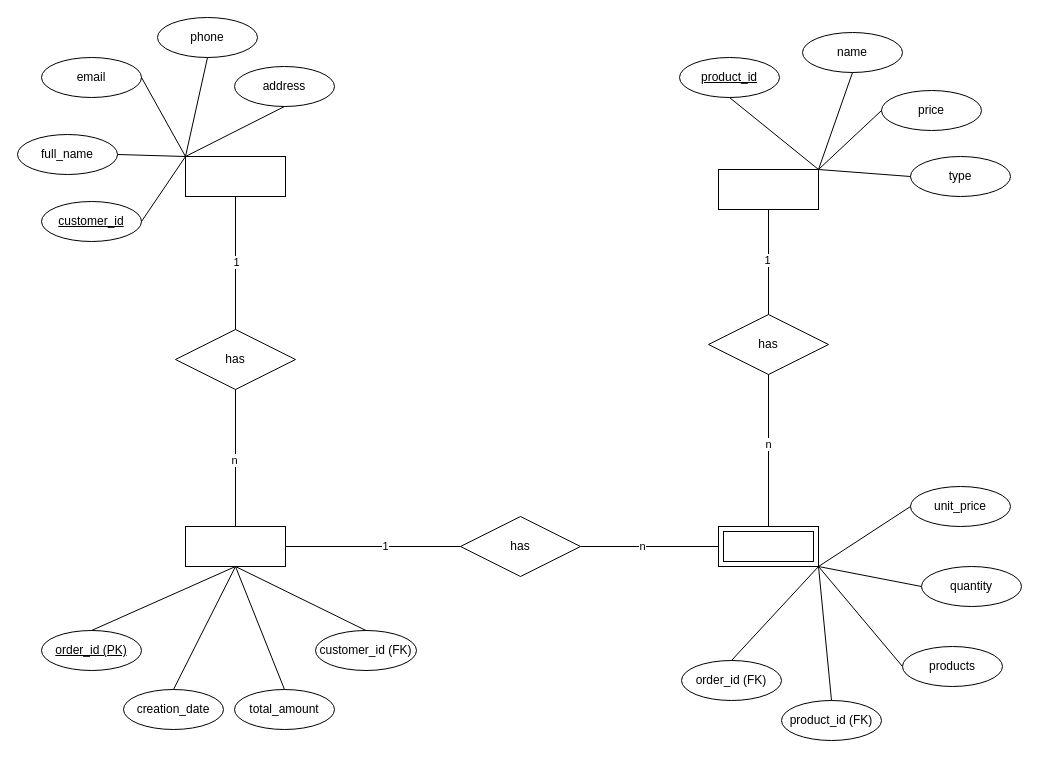
This 1039x758 diagram has some shape labels left out. Each missing label, with the centre of its shape:
"Customer" belongs at point 235,176.
"Order" belongs at point 235,546.
"Order_details" belongs at point 768,546.
"Product" belongs at point 768,189.
